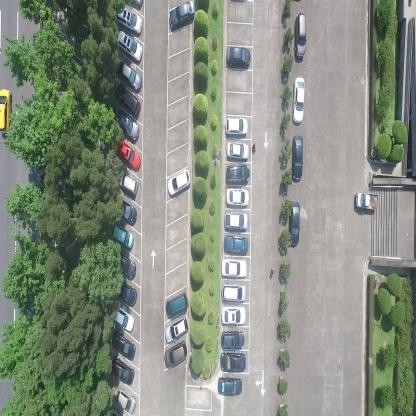car: (116, 55, 142, 93), (115, 29, 143, 62), (115, 82, 140, 118), (117, 136, 142, 171), (168, 0, 194, 32), (116, 4, 143, 34), (110, 355, 135, 386), (291, 74, 306, 125), (116, 107, 139, 140), (110, 331, 136, 360), (115, 250, 138, 282), (167, 168, 191, 197), (165, 316, 189, 345), (164, 339, 188, 368), (166, 290, 188, 320), (0, 86, 13, 136), (111, 303, 135, 330), (116, 278, 137, 308), (119, 168, 139, 198), (114, 388, 138, 413), (220, 350, 247, 372), (217, 375, 244, 397), (116, 198, 138, 225), (291, 133, 303, 181), (294, 12, 306, 60), (226, 45, 250, 69), (288, 200, 300, 247), (112, 225, 134, 250), (223, 234, 249, 255), (221, 258, 248, 278), (226, 163, 250, 185), (354, 190, 379, 211), (220, 306, 246, 326), (224, 188, 249, 208), (225, 116, 248, 137), (224, 211, 248, 230), (220, 331, 244, 350), (222, 283, 247, 301), (225, 142, 249, 160)
